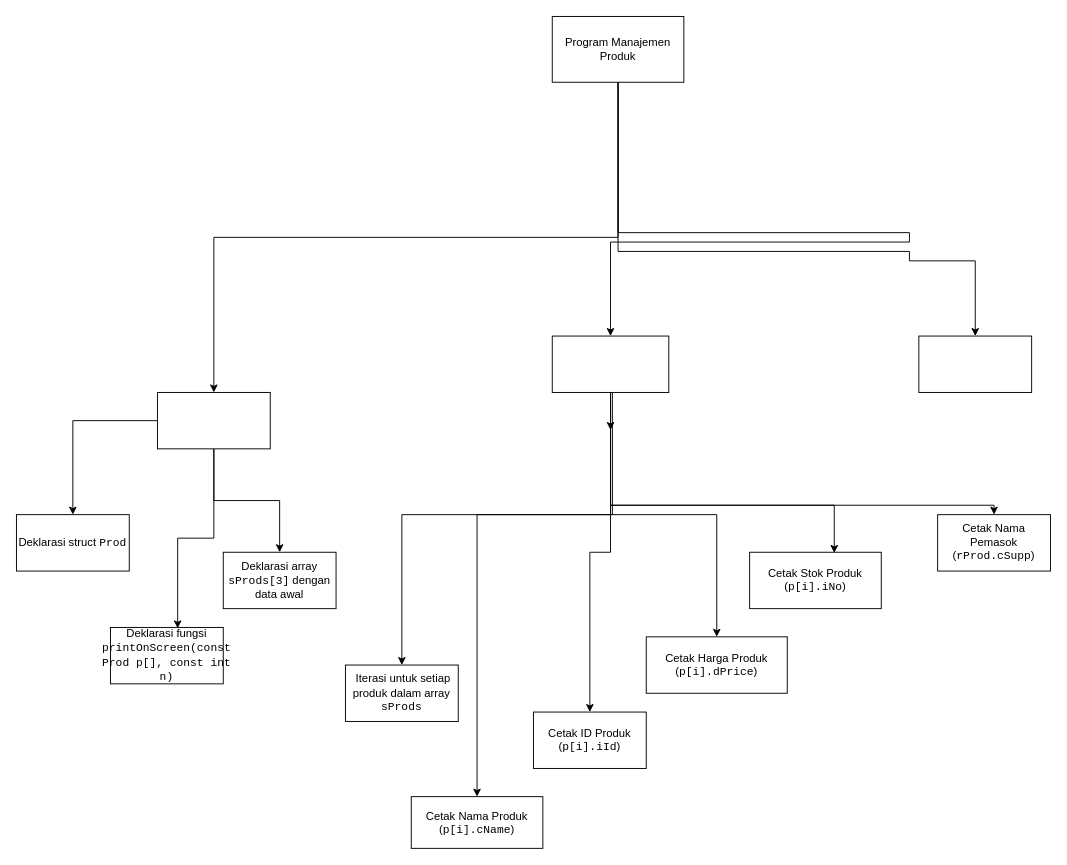
Some shapes in this 1067 by 865 pixel diagram are drawn without their labels. The centre of each missing label's shape, as x and y in pixels:
"Inisialisasi" goes at point 213,420.
"Selesai" goes at point 975,363.
"Tampilkan Data Produk" goes at point 610,363.
